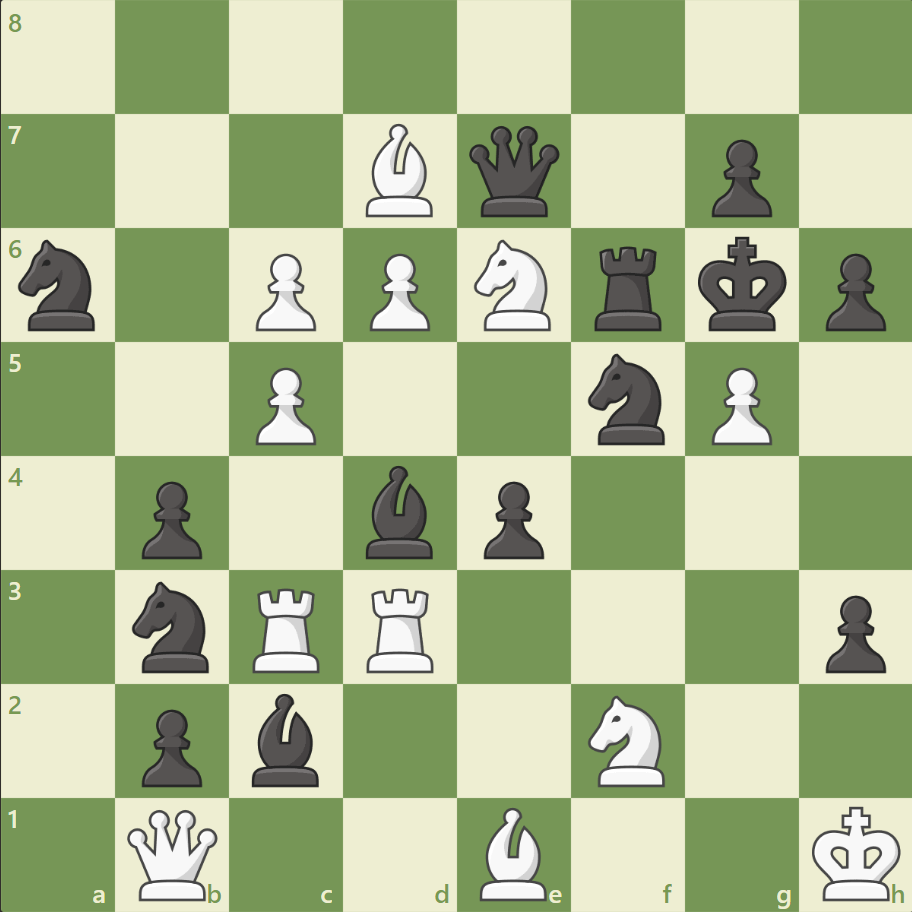B: (471, 801, 555, 904), (358, 120, 442, 222)
K: (806, 798, 906, 906)
N: (465, 234, 562, 337), (579, 688, 676, 791)
P: (247, 246, 322, 337), (247, 359, 322, 450), (701, 359, 776, 450), (361, 246, 435, 337)
Q: (124, 804, 223, 903)
R: (246, 579, 329, 676), (360, 579, 442, 676)
b: (358, 460, 442, 563), (244, 687, 328, 790)
k: (692, 231, 792, 339)
n: (124, 575, 222, 677), (11, 234, 108, 337), (579, 348, 676, 450)
p: (701, 132, 776, 223), (133, 473, 208, 564), (474, 473, 549, 564), (133, 700, 208, 791), (815, 246, 889, 337), (815, 586, 889, 677)
q: (464, 122, 563, 222)
r: (587, 239, 670, 336)
